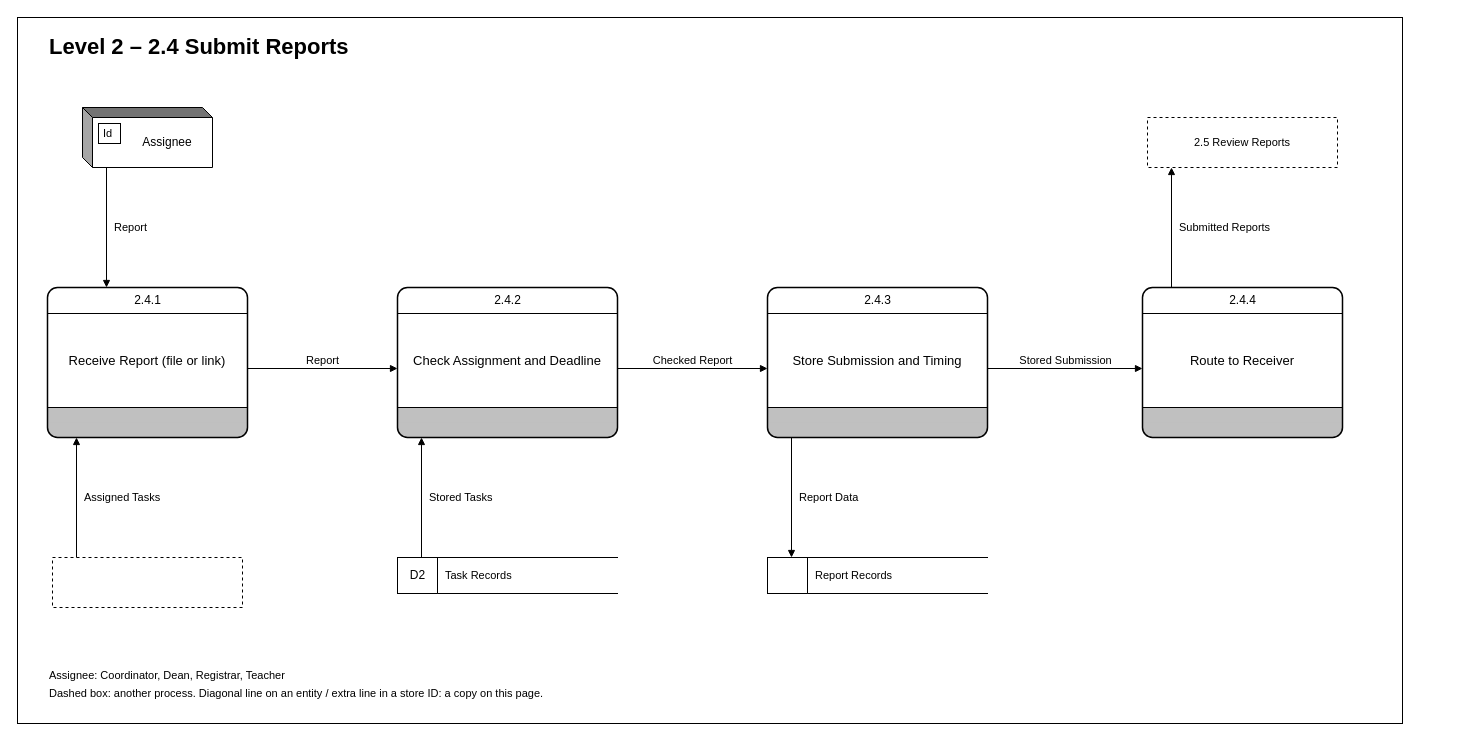
Image size: 1465x741. Some labels were removed from this diagram. Each missing label, with the centre of its shape:
"2.3 Assign Personnel" goes at (x=147, y=582).
"D3" goes at (x=787, y=575).
